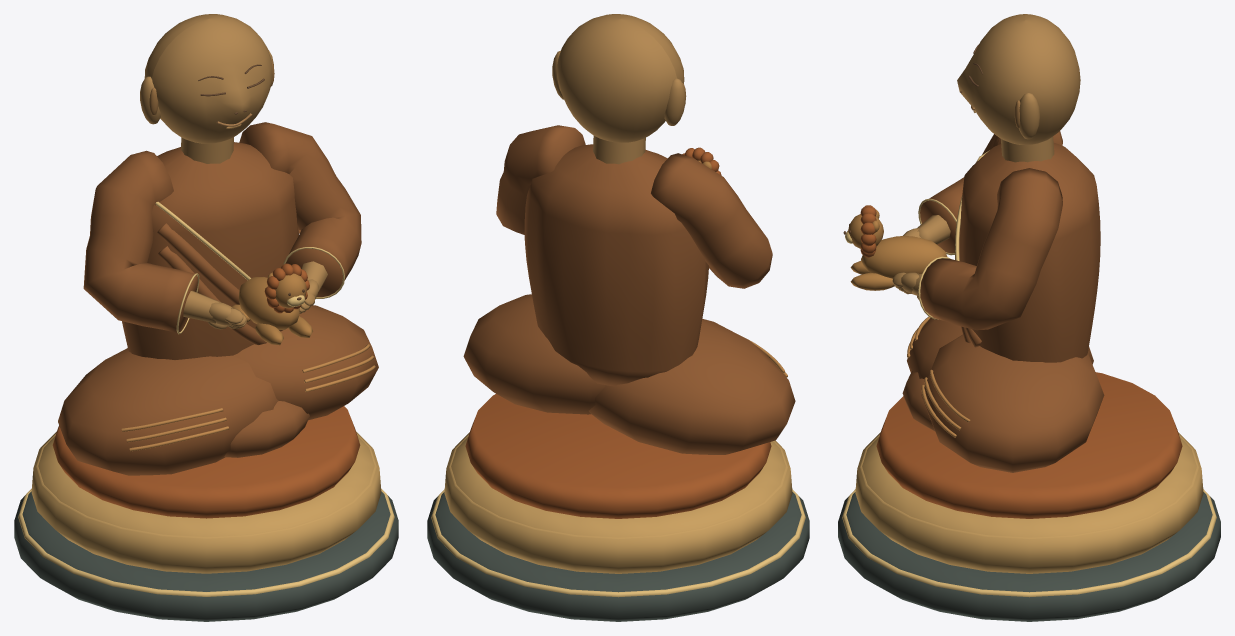
Rendered from arhat_13_lod1.glb.
The picture shows the model from 3 angles, left to right: view 1: azimuth 30°, elevation 25°; view 2: azimuth 150°, elevation 25°; view 3: azimuth 270°, elevation 25°; orthographic projection.
Visible parts, largest first — view 1: arhat_13_ArhatDrapery, arhat_13_AntiqueGold, arhat_13_CarvedPlinth, arhat_13_SaffronDrapery, arhat_13_WarmBronze, arhat_13_RaisedGoldBorders, arhat_13_AnimalBronze, arhat_13_DraperyFoldHighlights; view 2: arhat_13_ArhatDrapery, arhat_13_SaffronDrapery, arhat_13_AntiqueGold, arhat_13_CarvedPlinth, arhat_13_WarmBronze, arhat_13_RaisedGoldBorders; view 3: arhat_13_ArhatDrapery, arhat_13_SaffronDrapery, arhat_13_AntiqueGold, arhat_13_CarvedPlinth, arhat_13_WarmBronze, arhat_13_AnimalBronze, arhat_13_RaisedGoldBorders, arhat_13_DraperyFoldHighlights.
Part boxes in pixels (bbox=[...]): arhat_13_ArhatDrapery: bbox=[58, 122, 378, 475]; arhat_13_AntiqueGold: bbox=[31, 431, 381, 573]; arhat_13_CarvedPlinth: bbox=[14, 491, 398, 621]; arhat_13_SaffronDrapery: bbox=[52, 263, 360, 518]; arhat_13_WarmBronze: bbox=[140, 14, 327, 329]; arhat_13_RaisedGoldBorders: bbox=[18, 201, 394, 596]; arhat_13_AnimalBronze: bbox=[232, 272, 312, 345]; arhat_13_DraperyFoldHighlights: bbox=[121, 344, 375, 451]; arhat_13_ArhatDrapery: bbox=[463, 125, 795, 454]; arhat_13_SaffronDrapery: bbox=[465, 147, 771, 518]; arhat_13_AntiqueGold: bbox=[444, 432, 792, 573]; arhat_13_CarvedPlinth: bbox=[427, 492, 809, 621]; arhat_13_WarmBronze: bbox=[552, 14, 685, 164]; arhat_13_RaisedGoldBorders: bbox=[431, 489, 805, 597]; arhat_13_ArhatDrapery: bbox=[902, 131, 1104, 472]; arhat_13_SaffronDrapery: bbox=[860, 205, 1182, 518]; arhat_13_AntiqueGold: bbox=[855, 432, 1203, 573]; arhat_13_CarvedPlinth: bbox=[838, 492, 1220, 621]; arhat_13_WarmBronze: bbox=[892, 14, 1080, 300]; arhat_13_AnimalBronze: bbox=[848, 209, 947, 290]; arhat_13_RaisedGoldBorders: bbox=[842, 150, 1216, 597]; arhat_13_DraperyFoldHighlights: bbox=[907, 316, 970, 437].
Size of the model in its own units: 0.92 by 1.39 by 0.92.
